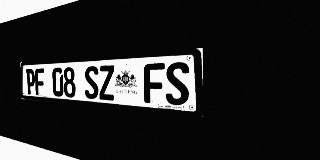0: (52, 67, 64, 97)
8: (63, 67, 76, 98)
F: (144, 63, 165, 104), (35, 68, 45, 96)
P: (26, 69, 35, 95)
S: (165, 62, 189, 106), (84, 66, 99, 99)
Z: (99, 65, 115, 101)
